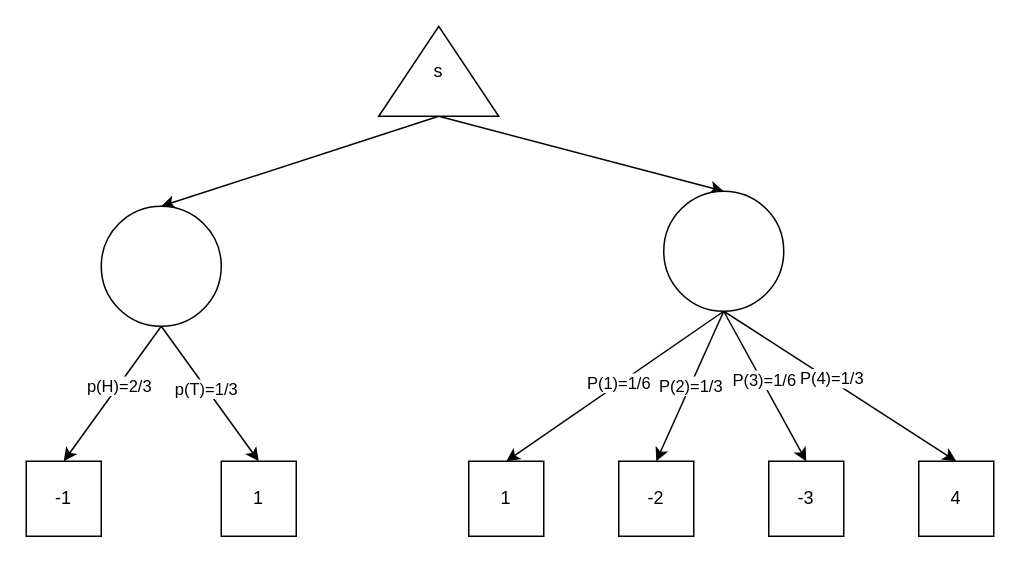
The diagram is 1020 pixels wide and 563 high, and some of its shapes have lost their labels. The shapes that lost their labels are listed below. From the top down, each one's centre as x and y in pixels, then its label:
[160,265]: s_1
[723,250]: s_2
